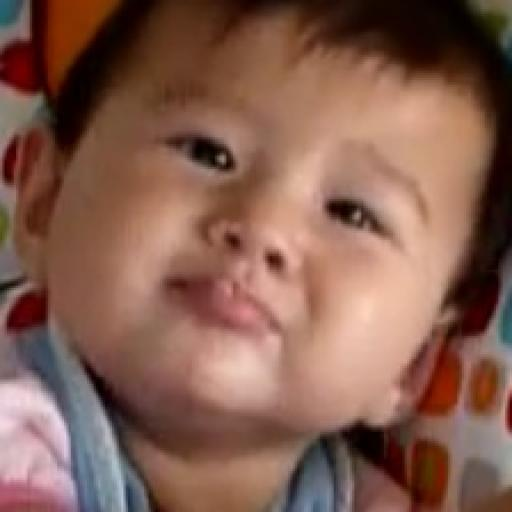Autism: (68, 29, 509, 512)
